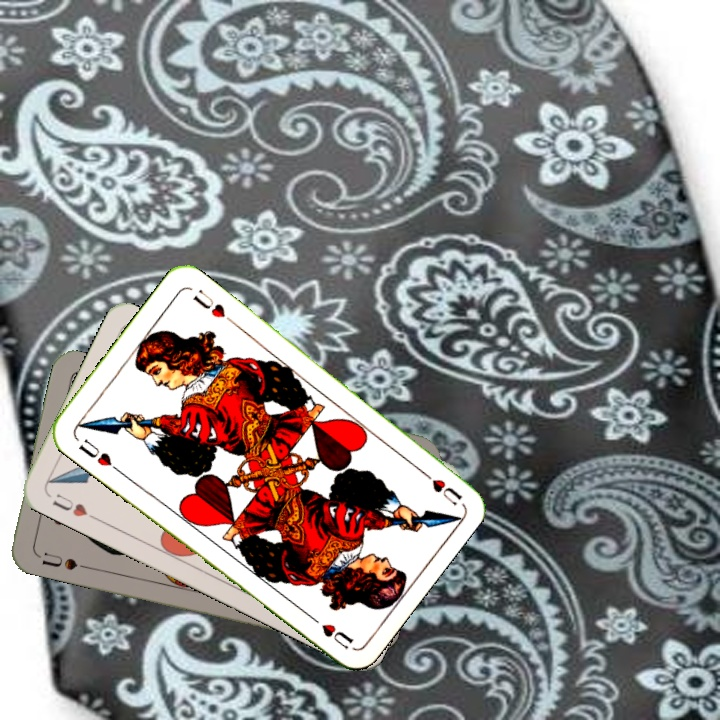HU: (414, 464, 465, 508), (74, 434, 114, 469), (48, 489, 91, 520)
SU: (32, 548, 90, 573)
